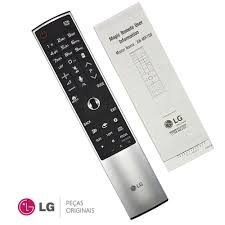remote control: (23, 0, 225, 176)
